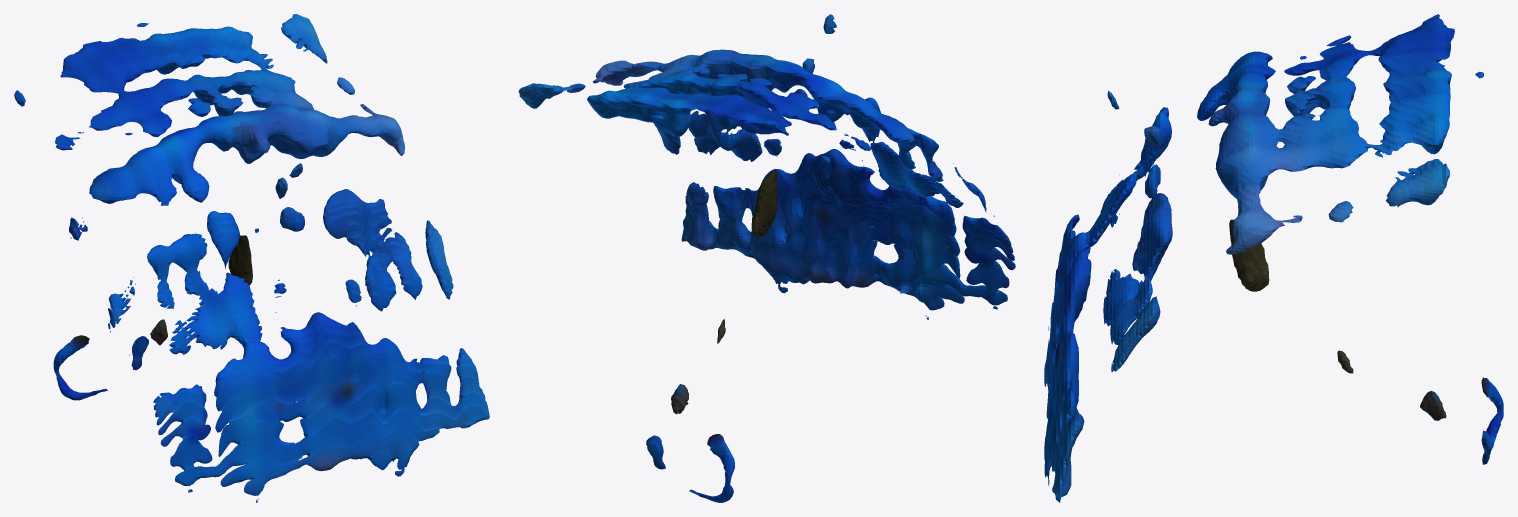
3 views of the same model, side by side, from view 1: azimuth 30°, elevation 25°; view 2: azimuth 150°, elevation 25°; view 3: azimuth 270°, elevation 25° (orthographic). The views are drawn at different scales.
Parts seen in each view (by area): view 1: tmpym1r_ofn.ply; view 2: tmpym1r_ofn.ply; view 3: tmpym1r_ofn.ply.
Boxes of the visible parts, <box> form: tmpym1r_ofn.ply: <box>14,14,489,502</box>; tmpym1r_ofn.ply: <box>518,14,1015,502</box>; tmpym1r_ofn.ply: <box>1044,14,1503,502</box>.
Bounding box in the file's own units: 1.87 × 1.93 × 1.92.
